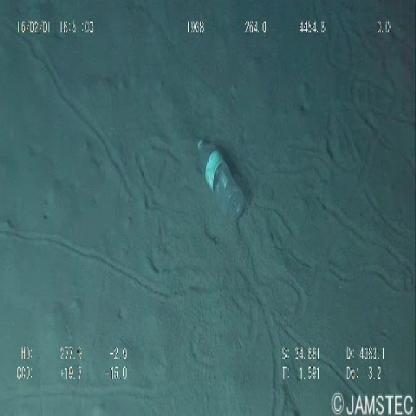Rác: (192, 126, 252, 226)
